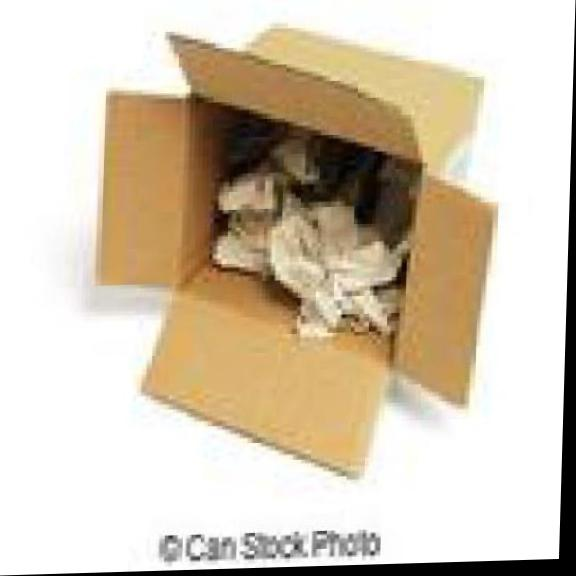Kertas: (98, 27, 494, 475)
